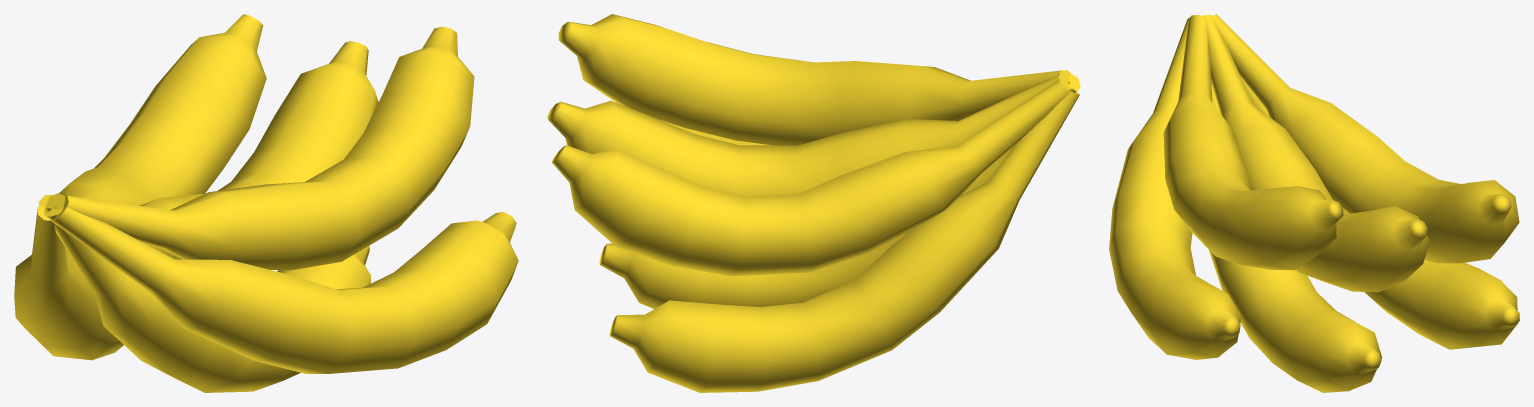
File: ToyObject_183.fbx
The picture shows the model from 3 angles, left to right: view 1: azimuth 30°, elevation 25°; view 2: azimuth 150°, elevation 25°; view 3: azimuth 270°, elevation 25°; orthographic projection. The views are drawn at different scales.
Visible parts, largest first — view 1: object-1.074; view 2: object-1.074; view 3: object-1.074.
Part boxes in pixels (x1=…): object-1.074: x1=14, y1=14, x2=518, y2=392; object-1.074: x1=547, y1=14, x2=1080, y2=392; object-1.074: x1=1109, y1=14, x2=1519, y2=392.
Size of the model in its own units: 0.1438 by 0.0816 by 0.1244.
